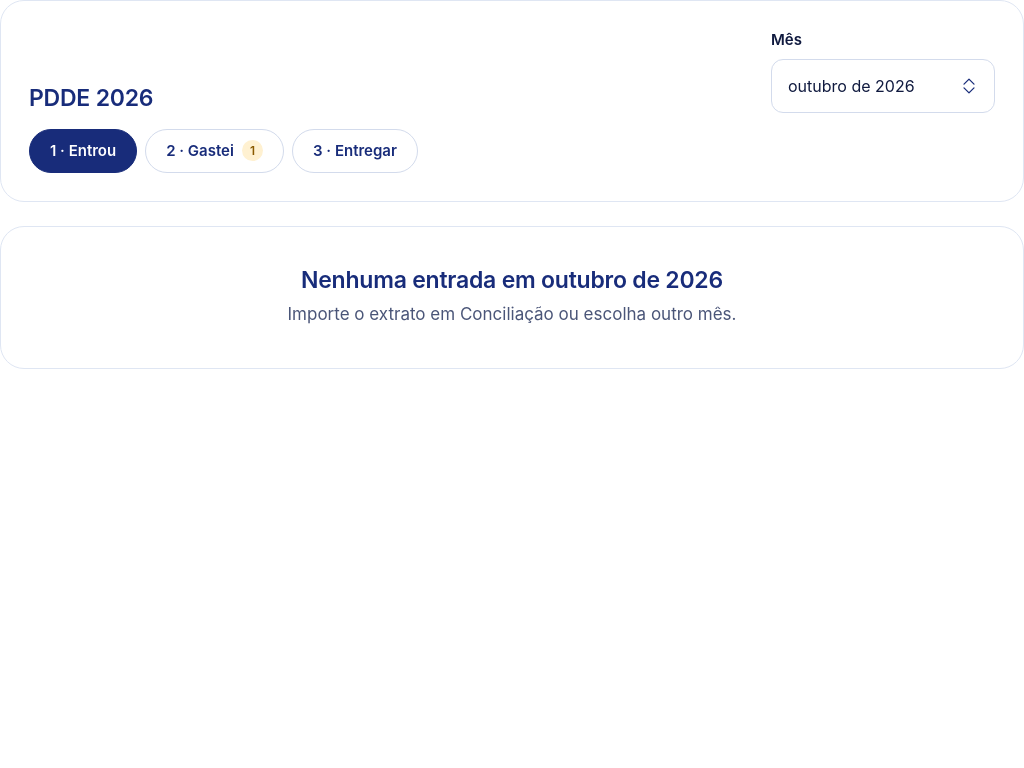
Scenario: PddeArea: entregar › sem pendencia, diz que esta tudo pronto; a relacao de bens so existe com gasto de capital
Click the tab "3 · Entregar" at (355, 151), box [292,129,418,173]
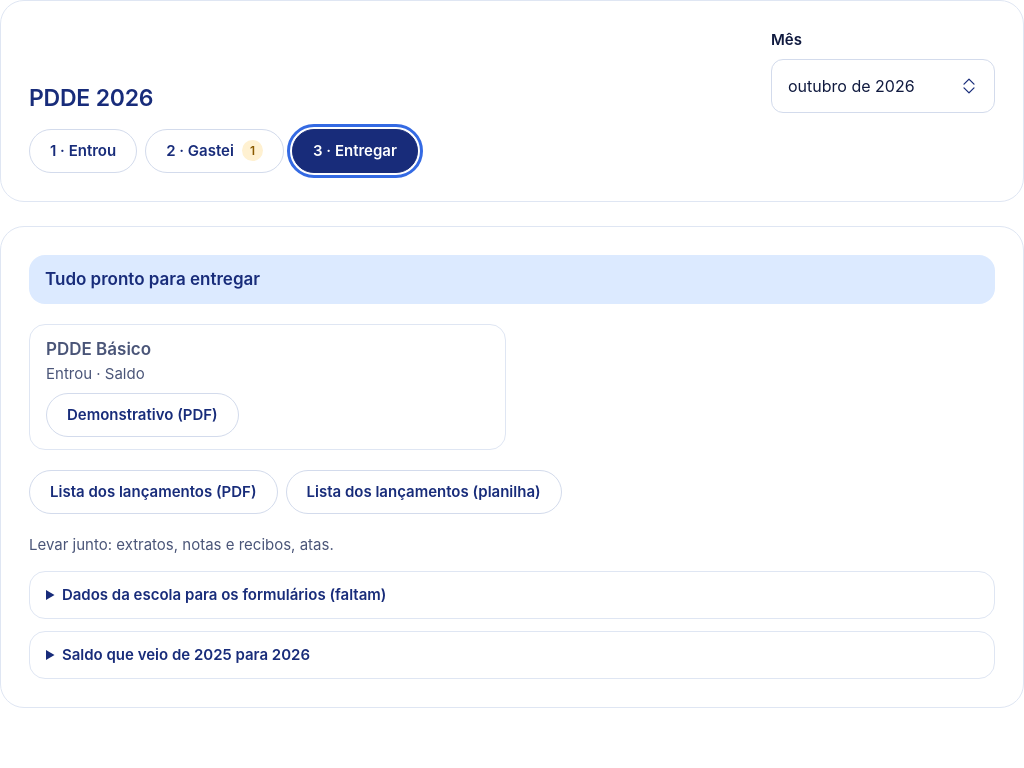
Check: the text "Tudo pronto para entregar" is shown, box [29,255,995,304]
